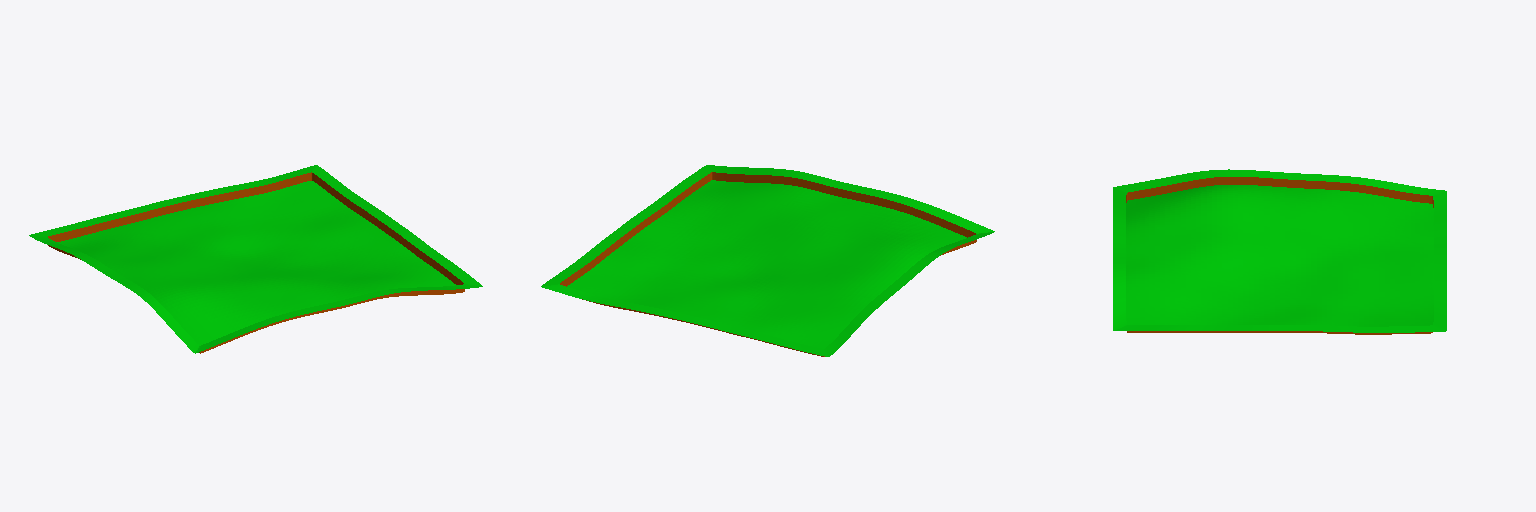
File: fofs.obj
The picture shows the model from 3 angles: view 1: azimuth 30°, elevation 25°; view 2: azimuth 150°, elevation 25°; view 3: azimuth 270°, elevation 25°; orthographic projection.
Parts seen in each view (by area): view 1: Plane; view 2: Plane; view 3: Plane.
Part boxes in pixels (bbox=[...]): Plane: bbox=[29, 165, 482, 353]; Plane: bbox=[541, 165, 994, 356]; Plane: bbox=[1113, 169, 1446, 334].
Size of the model in its own units: 99.9 by 10.4 by 99.9.